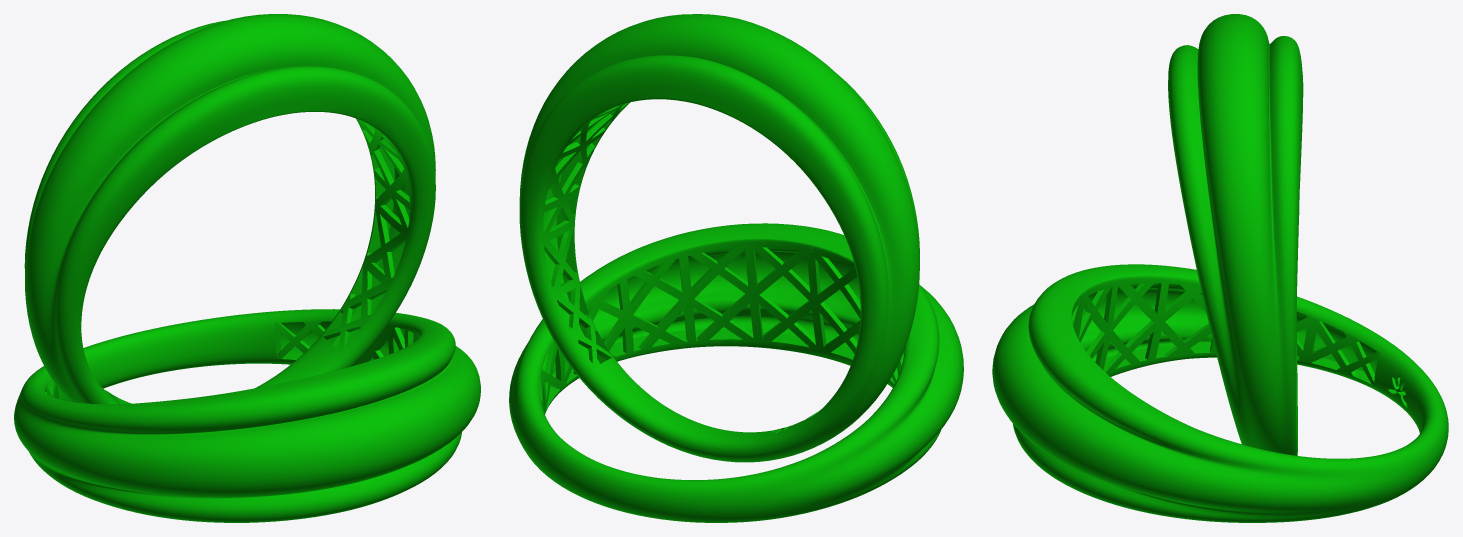
3 views of the same model, side by side, from view 1: azimuth 30°, elevation 25°; view 2: azimuth 150°, elevation 25°; view 3: azimuth 270°, elevation 25° (orthographic). The views are drawn at different scales.
Parts seen in each view (by area): view 1: RNG-2510062_3D.3dm; view 2: RNG-2510062_3D.3dm; view 3: RNG-2510062_3D.3dm.
Part boxes in pixels (bbox=[...]): RNG-2510062_3D.3dm: bbox=[14, 14, 480, 522]; RNG-2510062_3D.3dm: bbox=[509, 14, 963, 522]; RNG-2510062_3D.3dm: bbox=[992, 14, 1448, 522].
Size of the model in its own units: 2.29 by 2.33 by 2.31.
